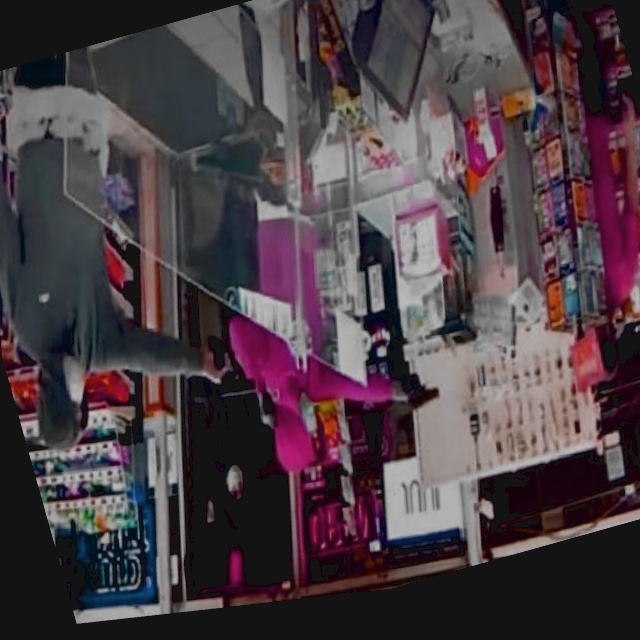gun: (192, 333, 270, 412), (389, 362, 449, 420)
